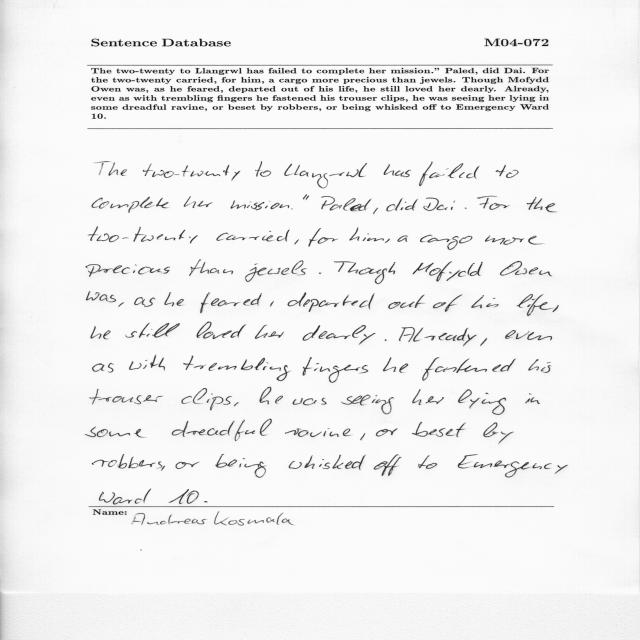word: (183, 356, 290, 381), (458, 454, 568, 478), (422, 357, 516, 381), (172, 419, 272, 441), (284, 163, 367, 188), (88, 227, 198, 244), (288, 292, 375, 312), (303, 357, 369, 383), (143, 164, 240, 181), (399, 327, 476, 346), (303, 325, 376, 345), (419, 162, 479, 186), (334, 261, 395, 284), (413, 262, 483, 282), (245, 260, 307, 282), (200, 293, 262, 314), (458, 389, 506, 415), (215, 454, 266, 478), (92, 197, 168, 213), (289, 455, 366, 470), (182, 388, 232, 410), (90, 389, 163, 404), (86, 264, 170, 277), (93, 454, 163, 469), (341, 395, 394, 414), (197, 322, 247, 339), (125, 323, 180, 338), (216, 230, 290, 241), (412, 422, 465, 437), (420, 235, 472, 250), (500, 261, 552, 276), (99, 489, 151, 504), (321, 196, 371, 211), (517, 294, 551, 316), (189, 260, 233, 276), (484, 422, 514, 444), (86, 427, 145, 438), (374, 454, 402, 476), (231, 201, 290, 211), (285, 428, 350, 437), (485, 235, 543, 245), (308, 228, 338, 247), (388, 294, 425, 309), (433, 294, 463, 312), (129, 355, 165, 370), (349, 227, 384, 242), (505, 330, 552, 341), (412, 389, 444, 405), (95, 161, 127, 176), (527, 197, 557, 212), (169, 489, 199, 504), (477, 196, 509, 210), (423, 198, 456, 211), (386, 198, 418, 211), (260, 387, 284, 404), (255, 325, 284, 339), (383, 357, 408, 373), (471, 296, 499, 309), (384, 165, 411, 178), (184, 196, 212, 208), (528, 359, 551, 373), (87, 292, 116, 303), (164, 292, 184, 307), (496, 165, 519, 178), (419, 455, 438, 469), (91, 326, 111, 339), (255, 161, 271, 177), (293, 398, 327, 405), (135, 297, 156, 307), (93, 363, 114, 373), (376, 429, 398, 437), (176, 462, 200, 469), (525, 394, 540, 405), (397, 235, 408, 242), (481, 338, 488, 346), (552, 305, 559, 312), (303, 194, 309, 200), (360, 433, 365, 440), (373, 208, 378, 214), (294, 239, 299, 245), (119, 302, 124, 307), (270, 301, 274, 307), (385, 239, 390, 243), (161, 466, 165, 471), (234, 403, 238, 407), (204, 501, 208, 503), (385, 339, 387, 341), (291, 209, 293, 210), (465, 208, 467, 209), (319, 273, 321, 274)
